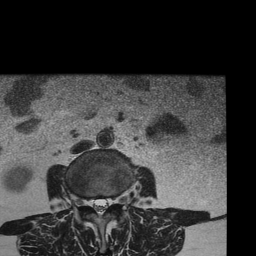CCS_normal: (97, 192, 103, 223)
LFS_normal: (112, 190, 119, 211)
LLS_normal: (104, 193, 111, 213)
RFS_normal: (81, 193, 90, 213)
RLS_normal: (90, 193, 97, 215)
